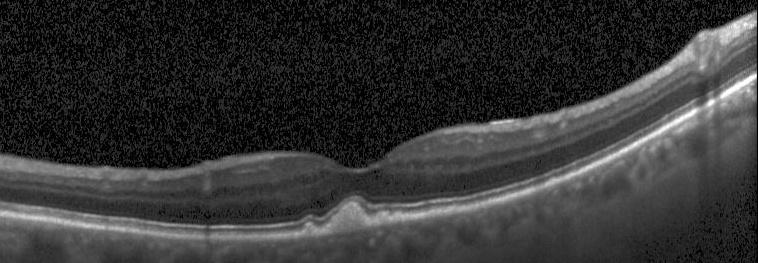retinal_drusen: (328, 204, 368, 234), (376, 212, 391, 226), (304, 225, 315, 236), (394, 214, 403, 223)
